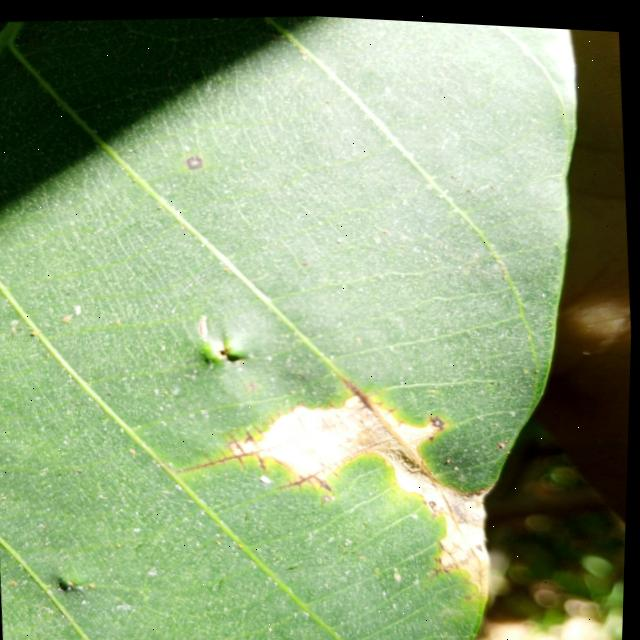Colletotrichum: (184, 152, 206, 168), (325, 491, 332, 497), (431, 496, 437, 502), (438, 552, 443, 556)
Corynespora: (342, 366, 439, 482), (172, 418, 276, 477), (275, 451, 348, 492)
Leaf-Blight: (259, 379, 504, 605)
